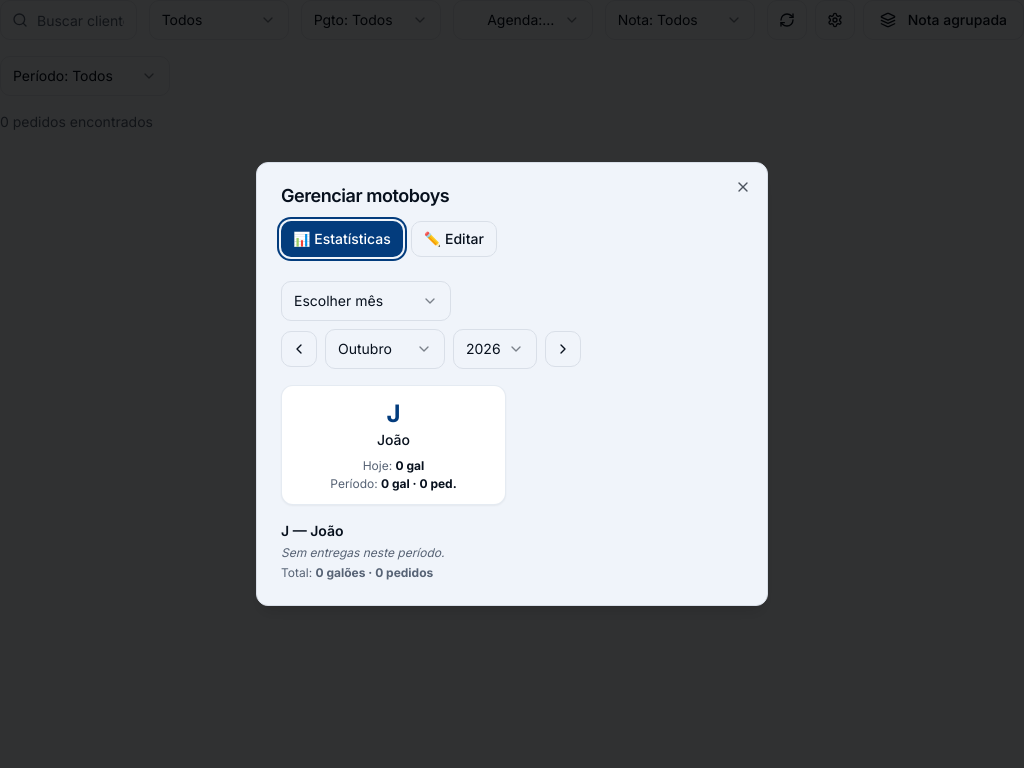
Test: o mesmo filtro de período em todo o painel › Motoboys: estatísticas com início e fim do período
Earlier steps of the test are not shown.
Step 1. Click the button titled "Mês anterior" → (299, 349), box [281,331,317,367]
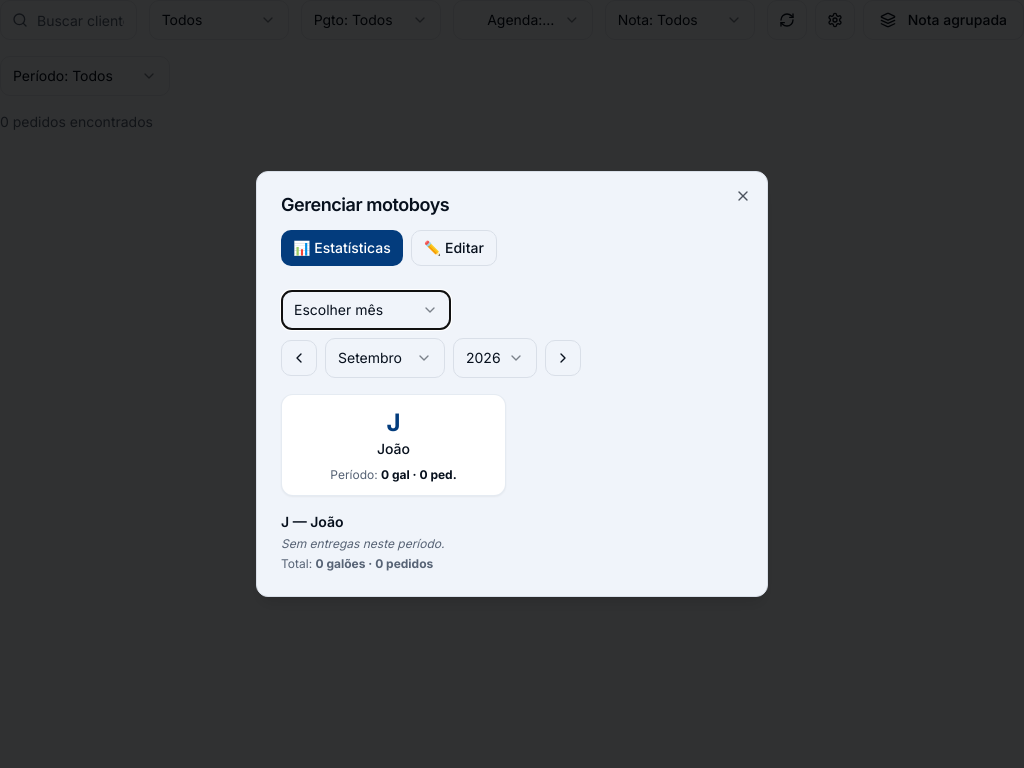
expect the text "Hoje:" is gone: met
